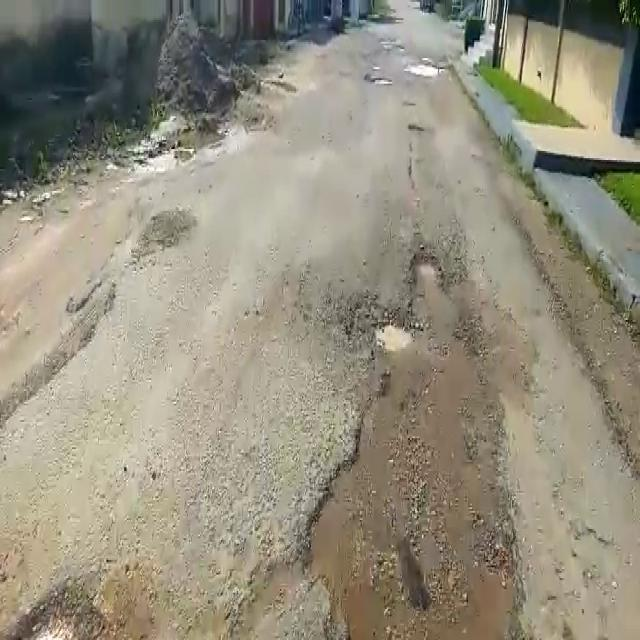pothole: (354, 299, 415, 365)
